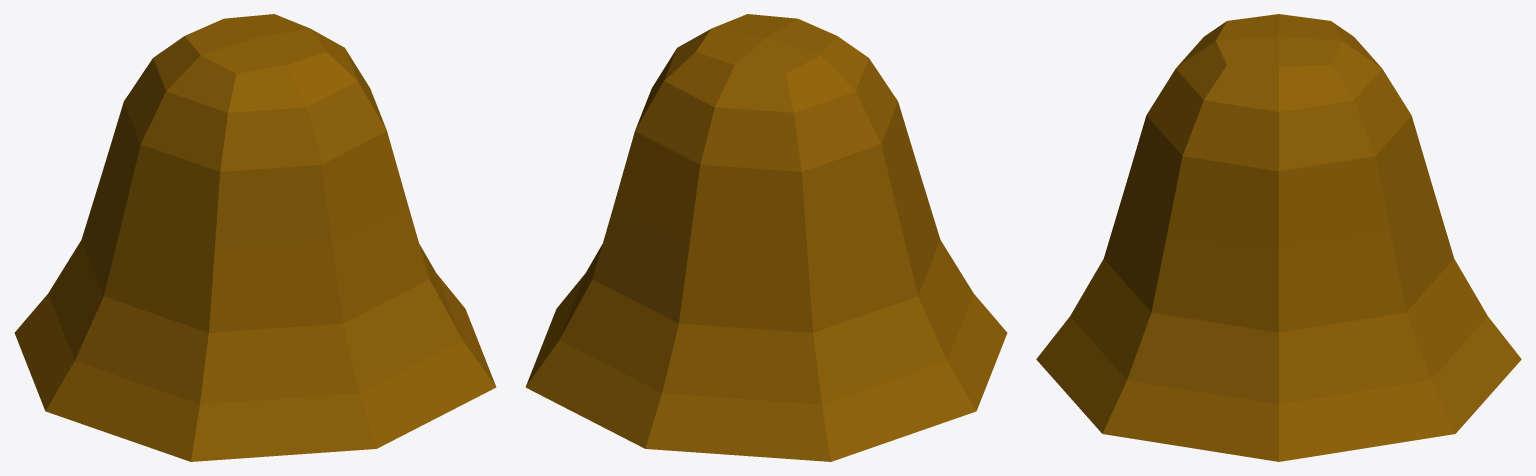
File: Bell.fbx
The picture shows the model from 3 angles, left to right: view 1: azimuth 30°, elevation 25°; view 2: azimuth 150°, elevation 25°; view 3: azimuth 270°, elevation 25°; orthographic projection.
Parts seen in each view (by area): view 1: Cube.003; view 2: Cube.003; view 3: Cube.003.
Boxes of the visible parts, box(x1,y1,x2,y2) form: Cube.003: box(14, 14, 496, 461); Cube.003: box(525, 14, 1007, 461); Cube.003: box(1036, 14, 1521, 461).
Size of the model in its own units: 43.82 by 40.15 by 43.82.
